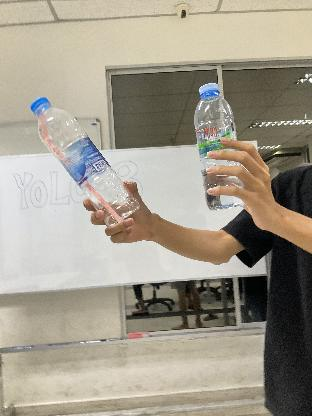Plastic Bottle: (31, 96, 139, 226), (193, 82, 244, 209)
